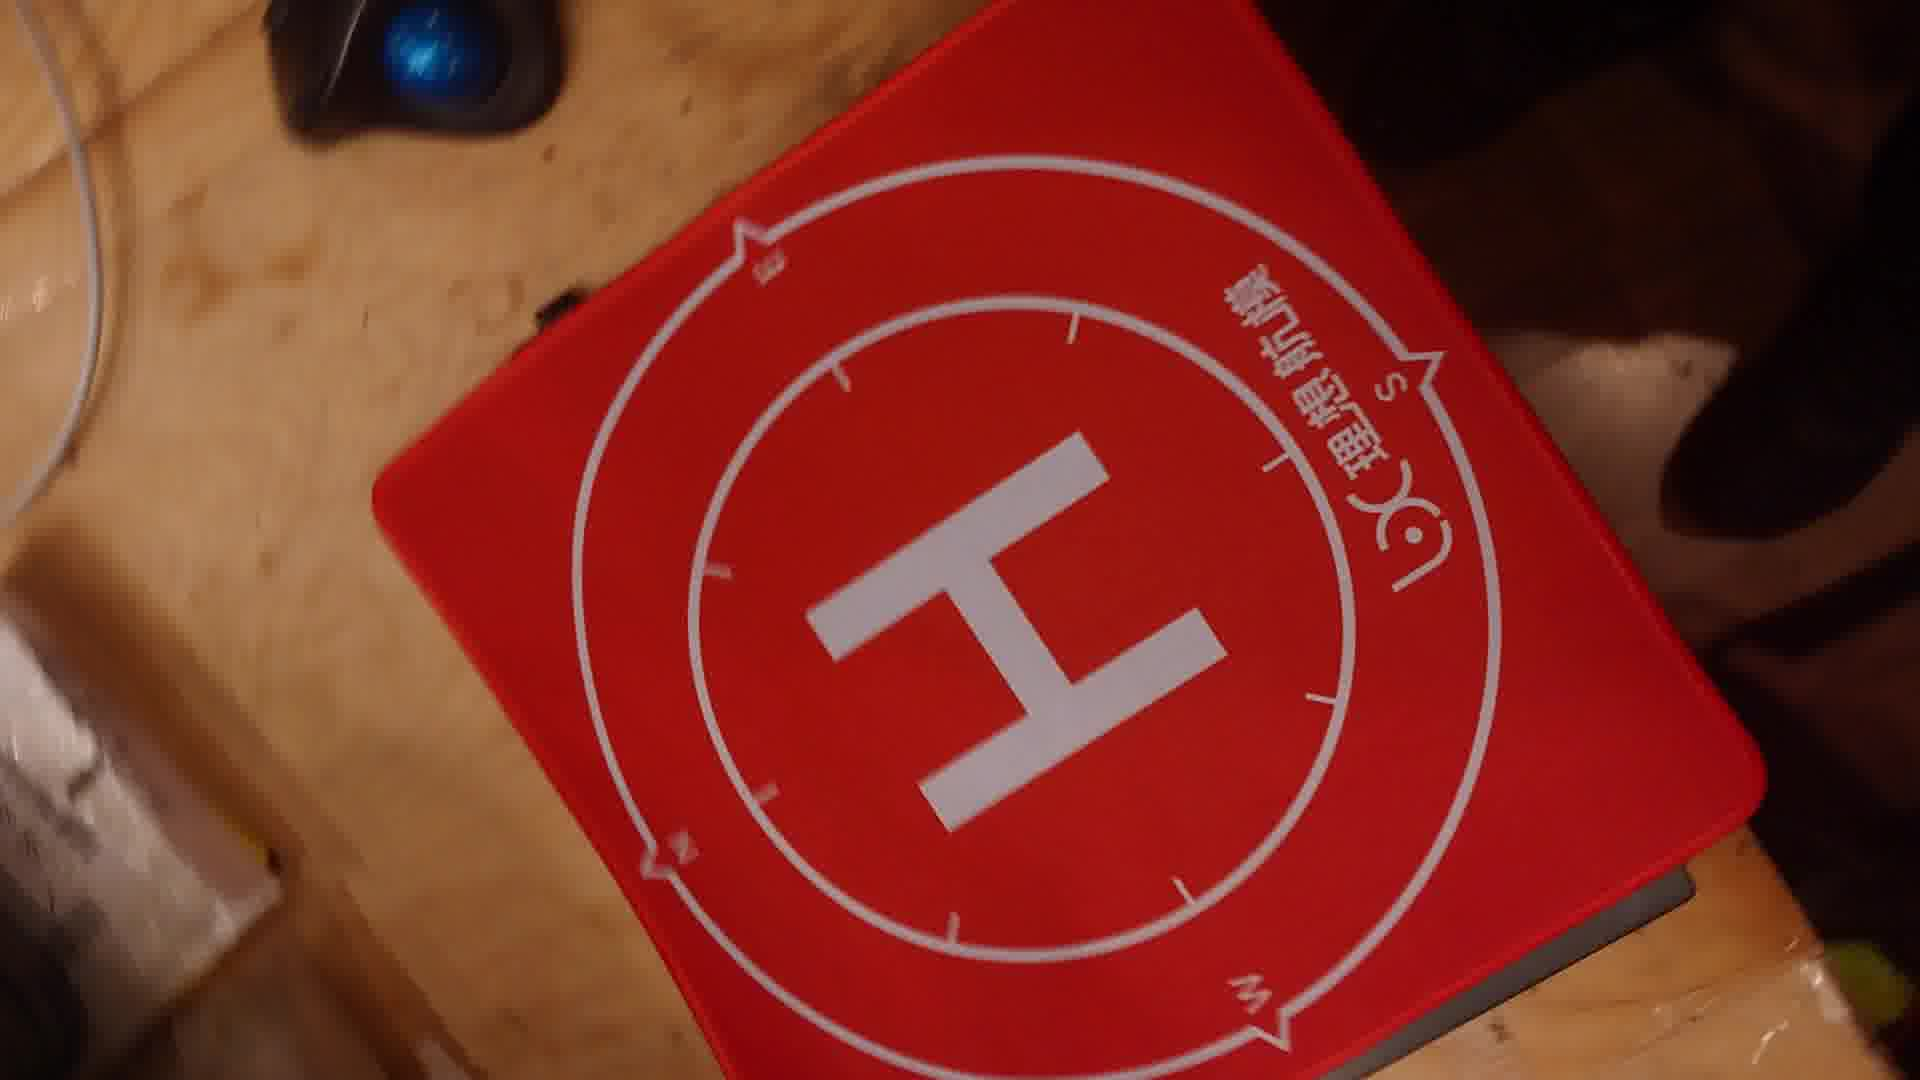H: (806, 433, 1228, 837)
